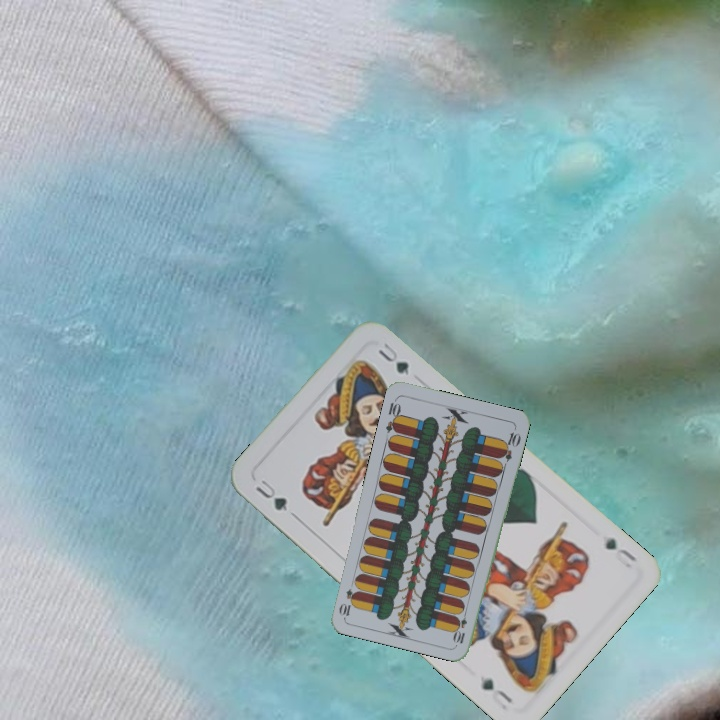E10: (382, 395, 403, 435), (451, 606, 470, 646)
GU: (251, 473, 290, 514), (601, 534, 641, 572)
